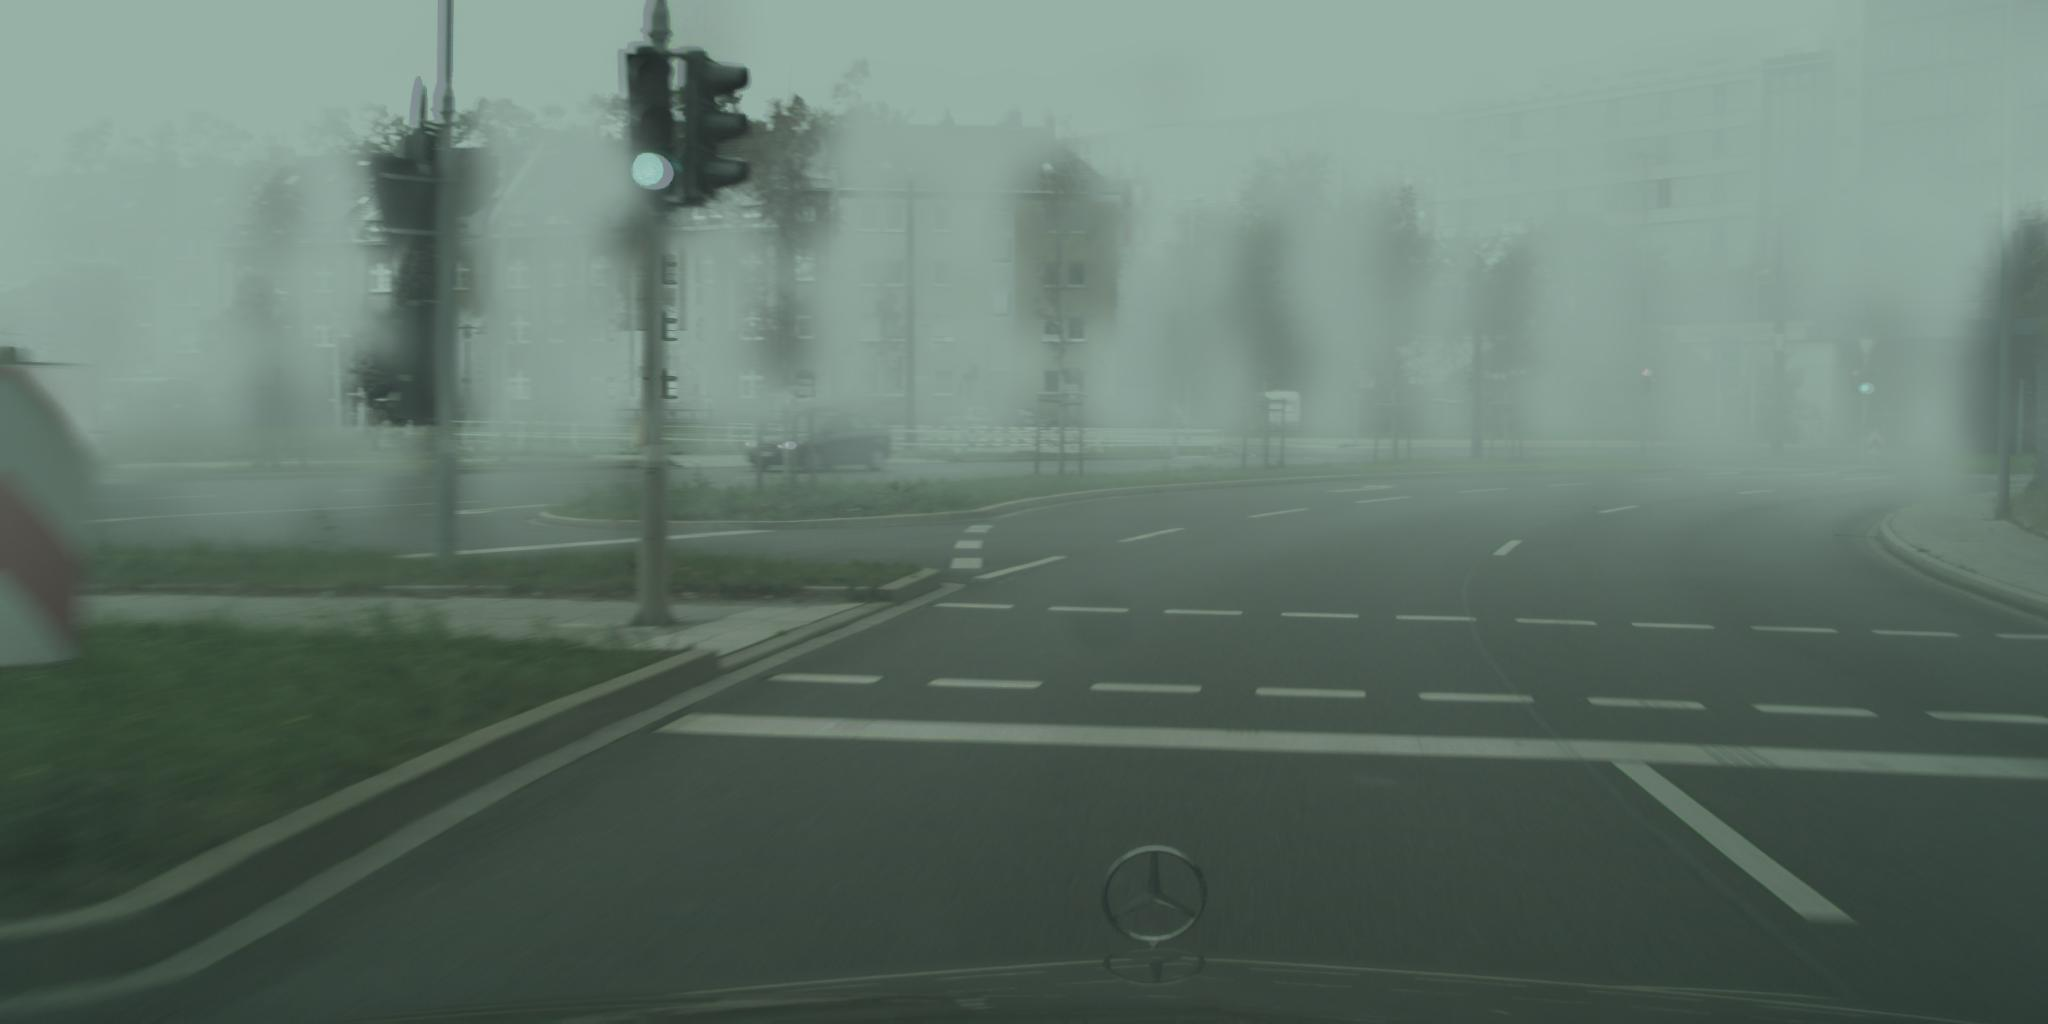car: (744, 409, 893, 474), (1140, 404, 1209, 435), (993, 409, 1054, 434), (939, 409, 999, 434)
